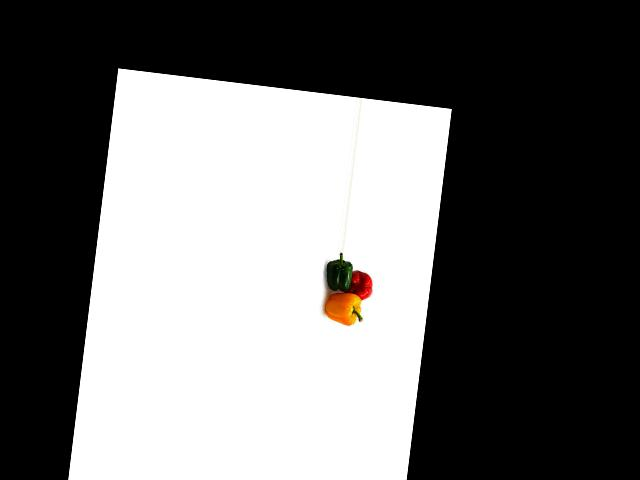bell_pepper: (323, 254, 357, 299)
